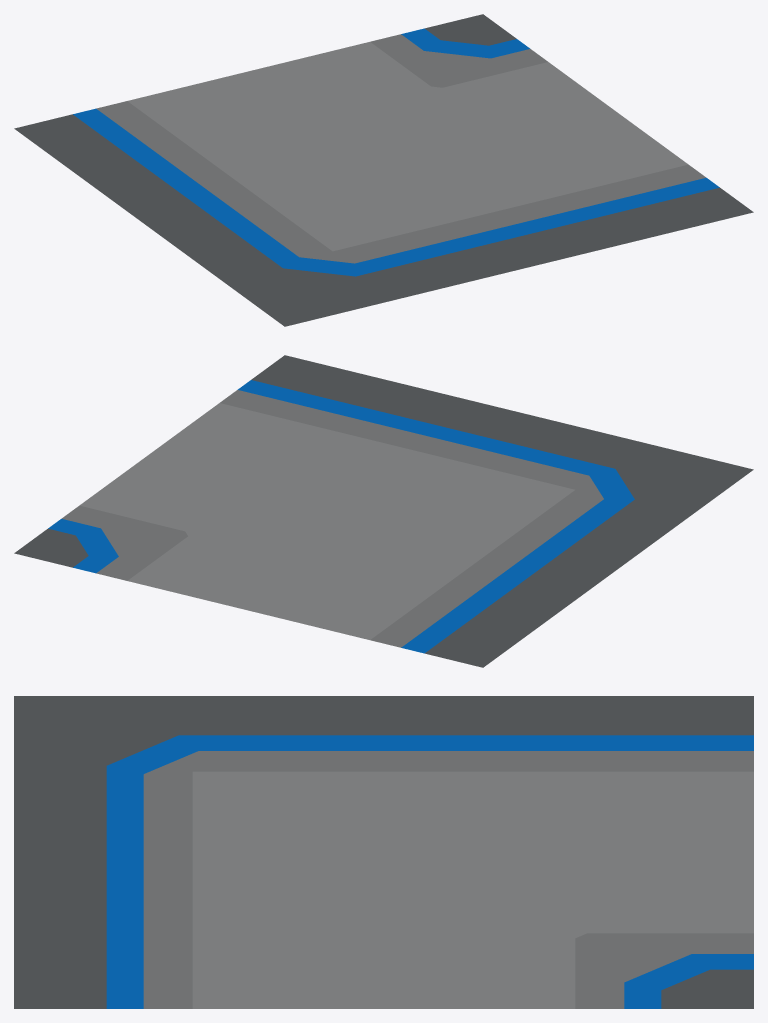
The model's file is Ceiling_type_B_033.fbx.
3 renders of one model, top to bottom at view 1: azimuth 30°, elevation 25°; view 2: azimuth 150°, elevation 25°; view 3: azimuth 270°, elevation 25°, orthographic. The views are drawn at different scales.
Visible parts, largest first — view 1: Ceiling_type_B_033; view 2: Ceiling_type_B_033; view 3: Ceiling_type_B_033.
Boxes of the visible parts, bbox=[...] form: Ceiling_type_B_033: bbox=[14, 14, 753, 326]; Ceiling_type_B_033: bbox=[14, 355, 753, 667]; Ceiling_type_B_033: bbox=[14, 696, 753, 1008].
Bounding box in the file's own units: 400 × 400 × 6.18.
